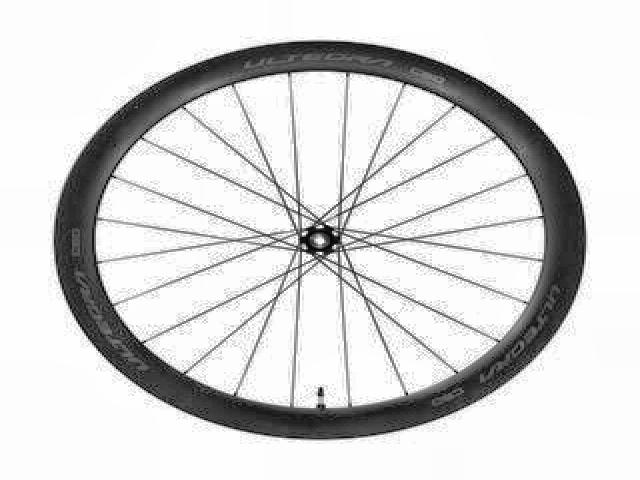wheel: (43, 39, 592, 440)
